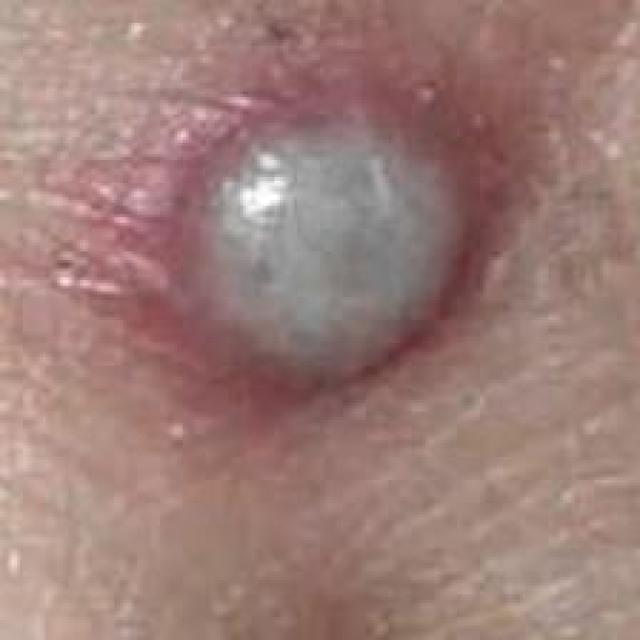monkeypox: (78, 38, 578, 627)
